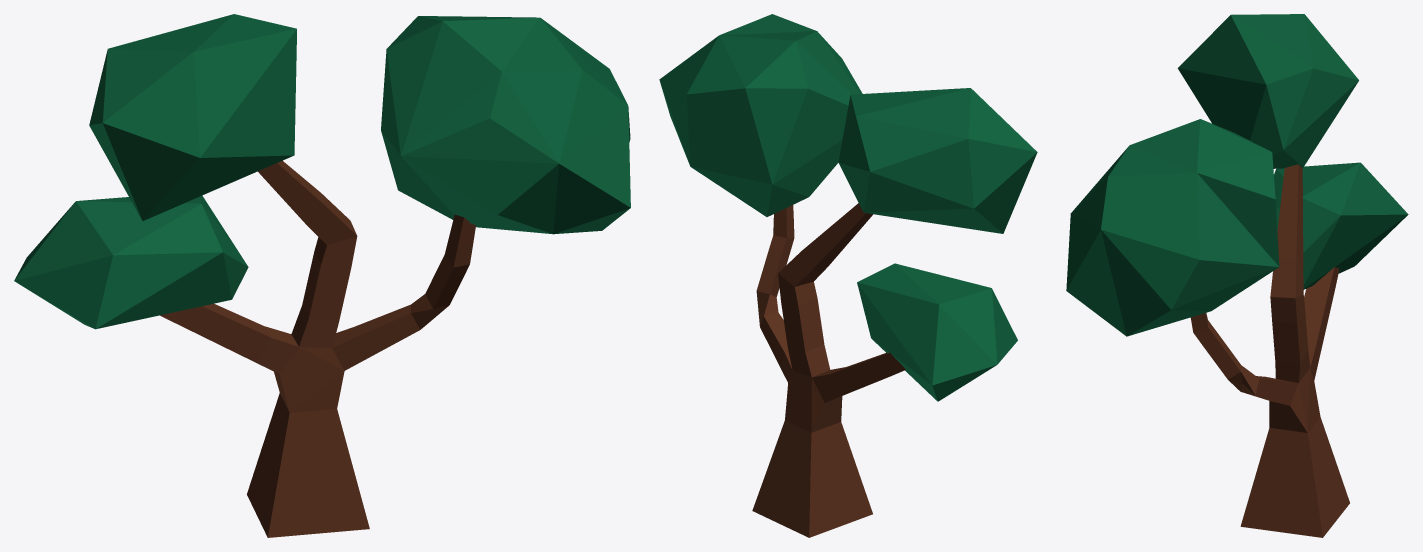
The model's file is sonamu.fbx.
The picture shows the model from 3 angles, left to right: view 1: azimuth 30°, elevation 25°; view 2: azimuth 150°, elevation 25°; view 3: azimuth 270°, elevation 25°; orthographic projection. The views are drawn at different scales.
Parts seen in each view (by area): view 1: Icosphere.001, Cube; view 2: Icosphere.001, Cube; view 3: Icosphere.001, Cube.
Part boxes in pixels (x1,y1,x2,y2): Icosphere.001: (14,14,630,329); Cube: (160,160,475,537); Icosphere.001: (659,14,1037,401); Cube: (752,203,905,537); Icosphere.001: (1066,14,1408,336); Cube: (1190,164,1349,537).
Bounding box in the file's own units: 132 × 131 × 92.58.
